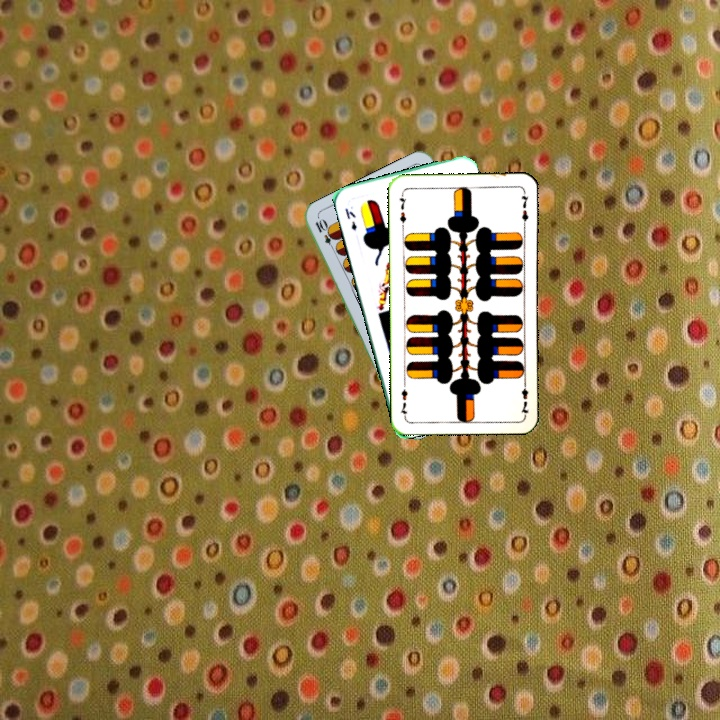E10: (311, 215, 339, 254)
E7: (517, 377, 531, 417), (396, 189, 409, 230)
EK: (341, 204, 360, 233)
